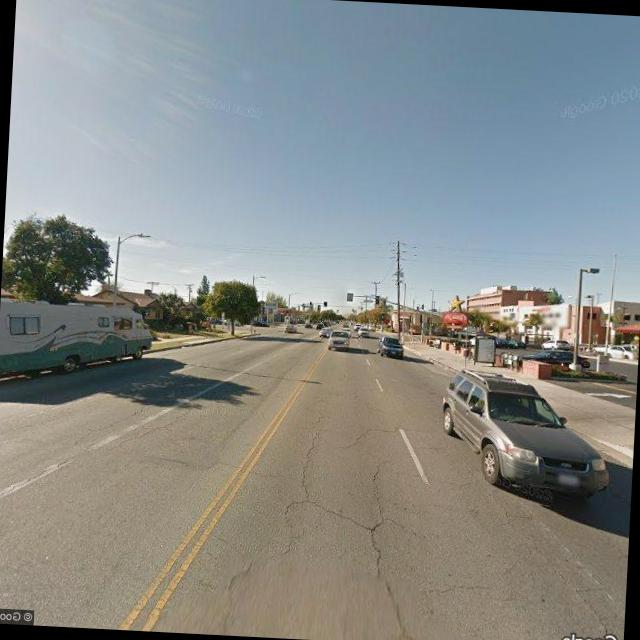crack: (233, 408, 428, 592), (110, 402, 196, 454), (0, 453, 72, 503)
